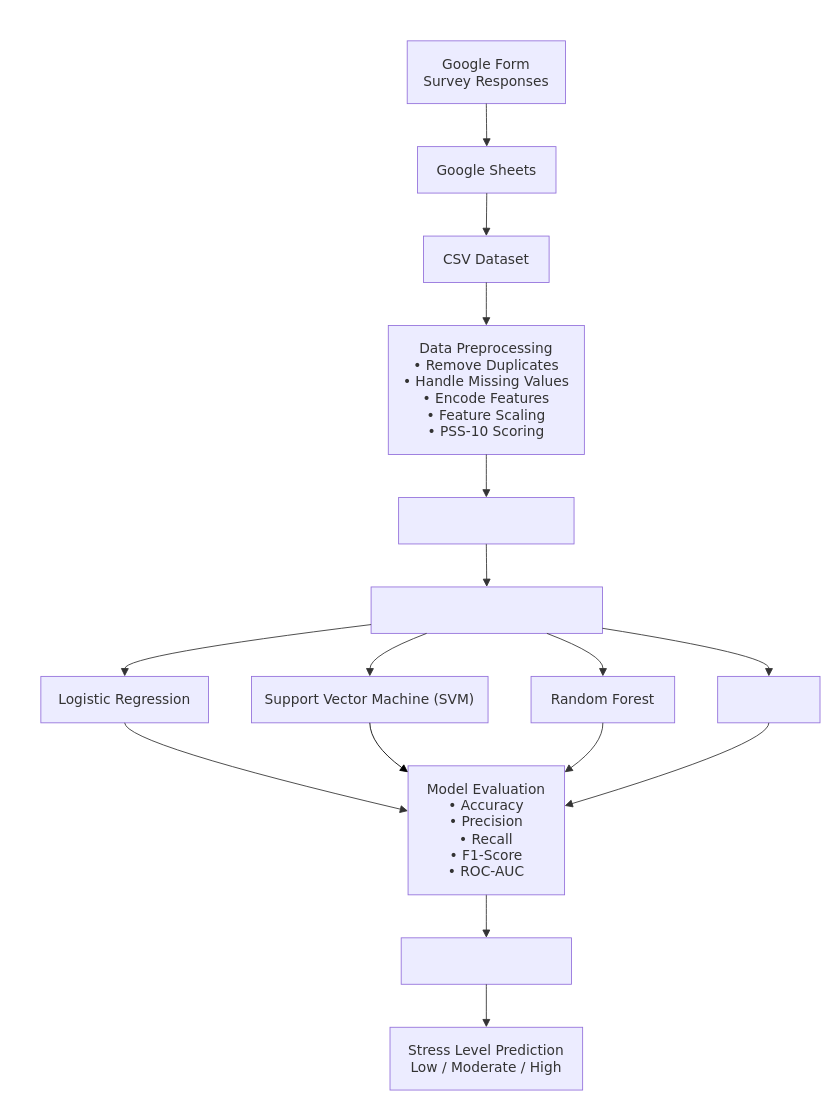
Image size: 835x1105. Some labels were removed from this diagram. The shapes that lost their labels are listed below. From the top down, each one's centre as x and y in pixels, then its label:
At pixel 486 520: "Feature Engineering".
At pixel 486 609: "Train / Validation / Test Split".
At pixel 768 699: "XGBoost".
At pixel 485 960: "SHAP Explainability".
